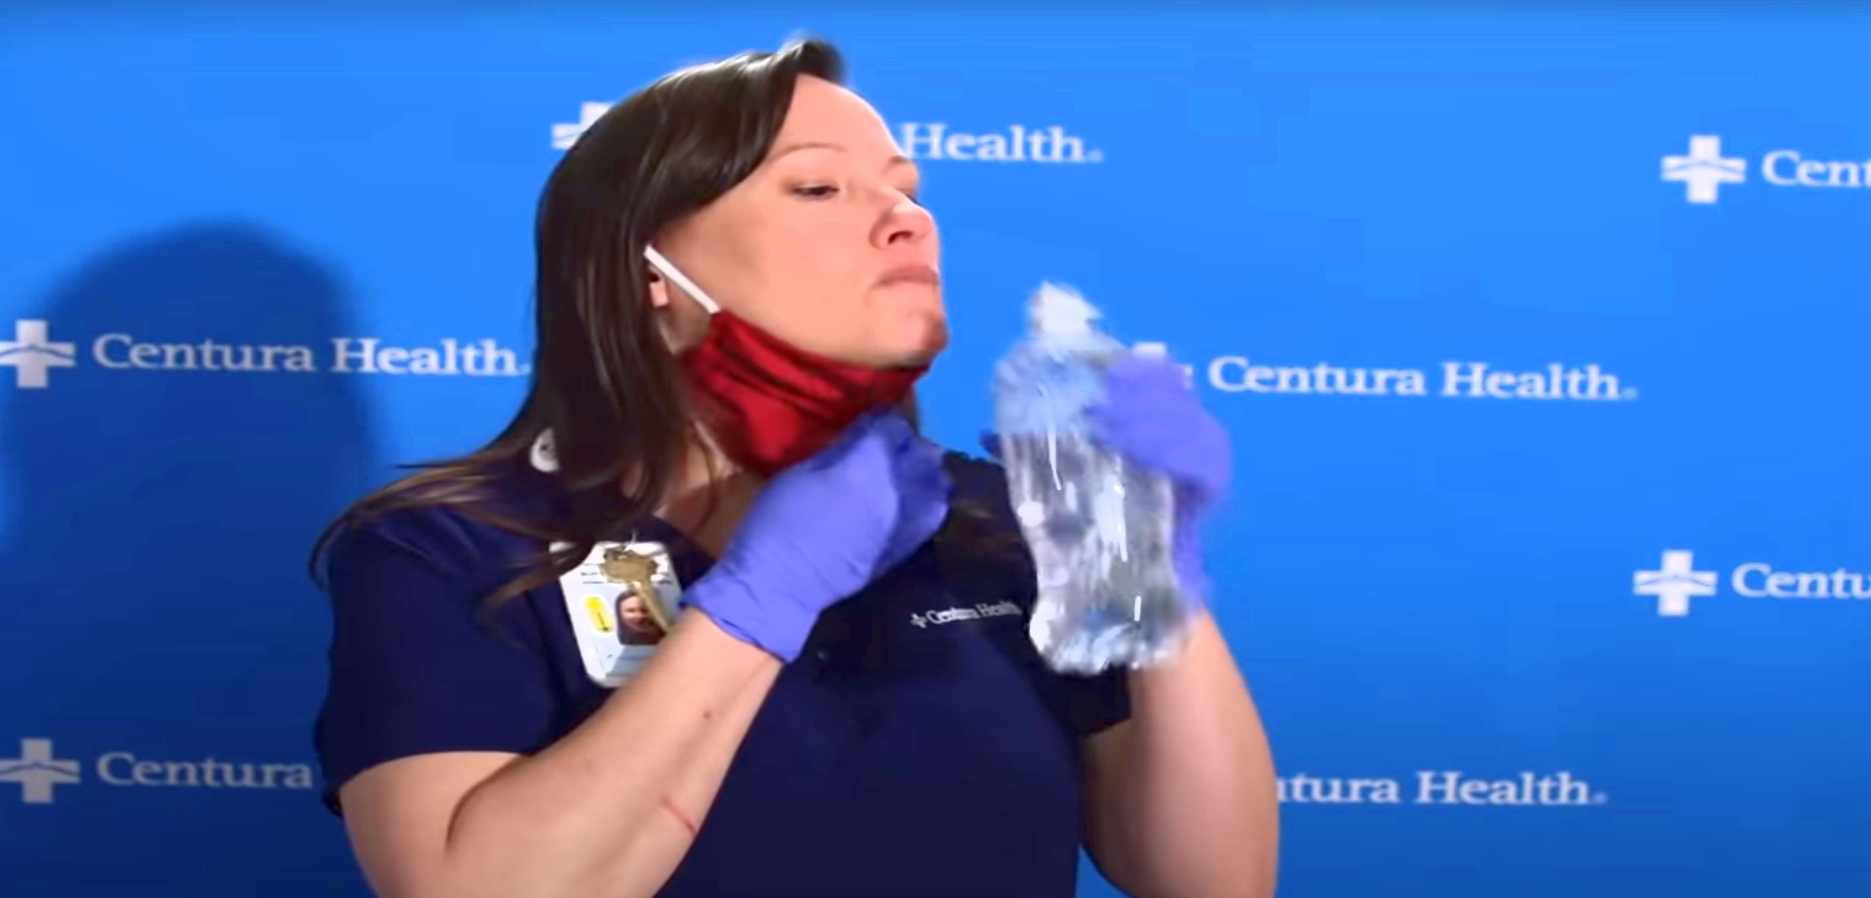mask_weared_incorrect: (539, 40, 949, 477)
